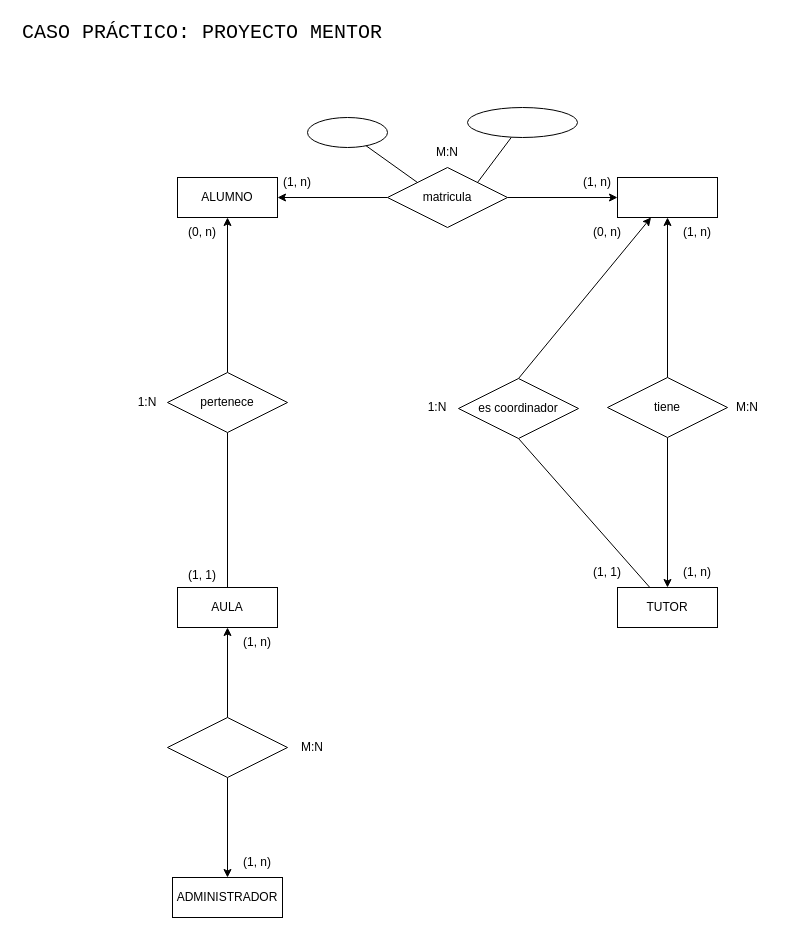
Some shapes in this 794 by 935 pixel diagram are drawn without their labels. The shapes that lost their labels are listed below. From the top down, each one's centre as x and y in pixels, then its label:
pixel 347 132: fecha_inicio
pixel 522 122: fecha_finalizacion
pixel 667 197: CURSO
pixel 227 747: mantiene
